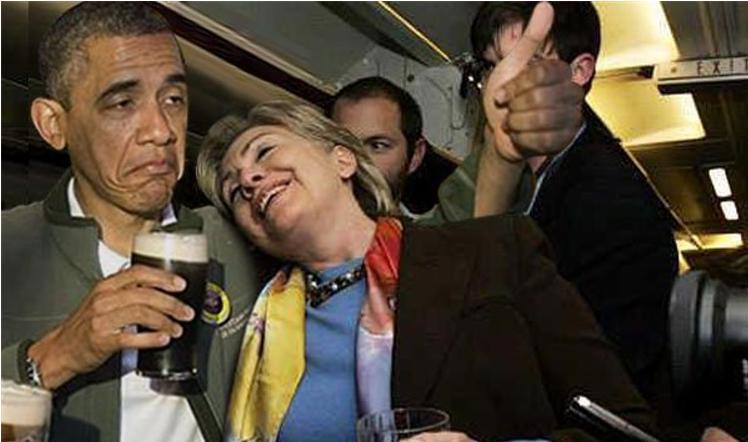Drunk: (65, 32, 188, 209), (215, 122, 344, 249)
